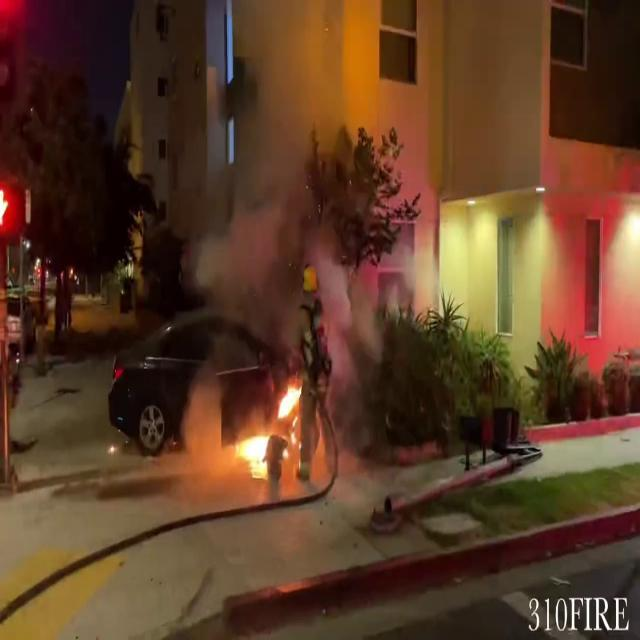Fire: (230, 376, 306, 480), (231, 424, 272, 480)
Smoke: (182, 1, 364, 332)
